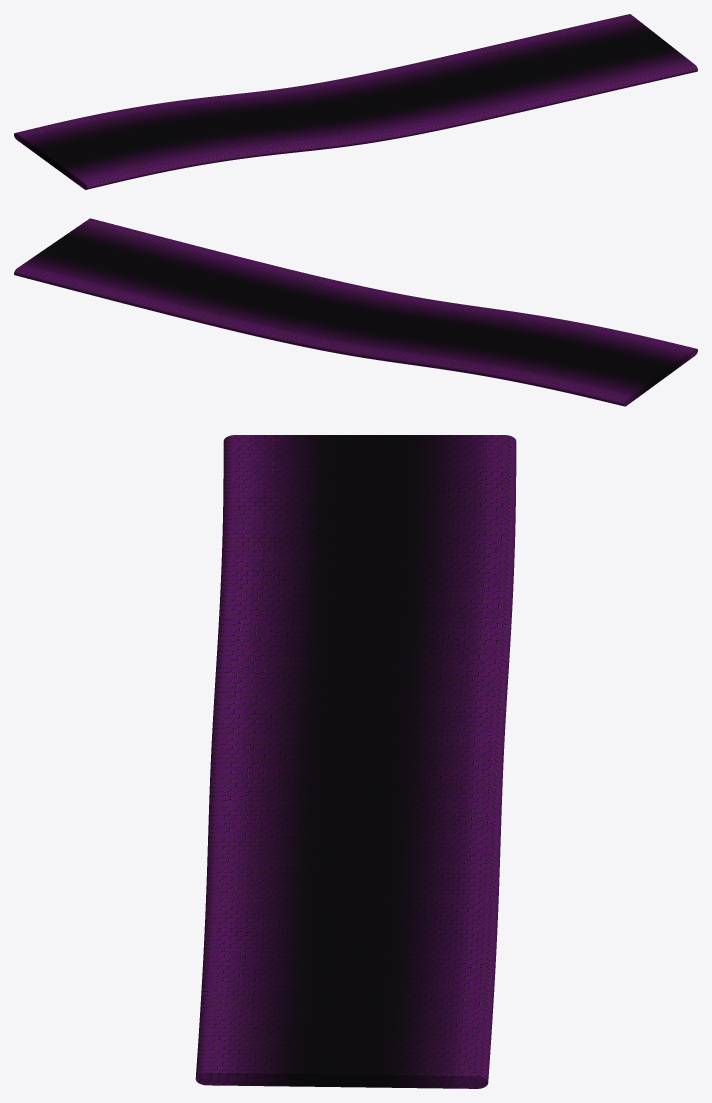
File: level-03-track-05upper.glb
3 renders of one model, top to bottom at view 1: azimuth 30°, elevation 25°; view 2: azimuth 150°, elevation 25°; view 3: azimuth 270°, elevation 25°, orthographic. The views are drawn at different scales.
Visible parts, largest first — view 1: track-05A-upper; view 2: track-05A-upper; view 3: track-05A-upper.
Part boxes in pixels (x1,y1,x2,y2): track-05A-upper: (14,14,697,189); track-05A-upper: (14,218,697,406); track-05A-upper: (195,435,516,1088).
Size of the model in its own units: 40.05 by 1.92 by 9.15.
Materials: 2 (2 with a texture image).
